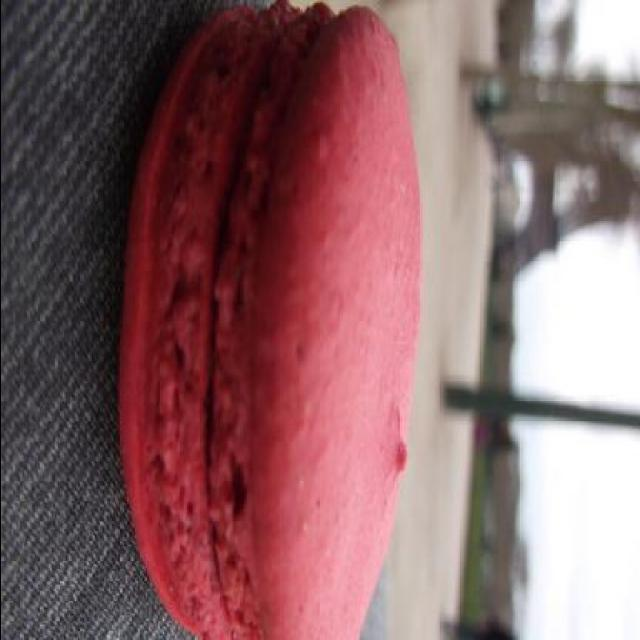Macaron: (104, 7, 422, 638)
